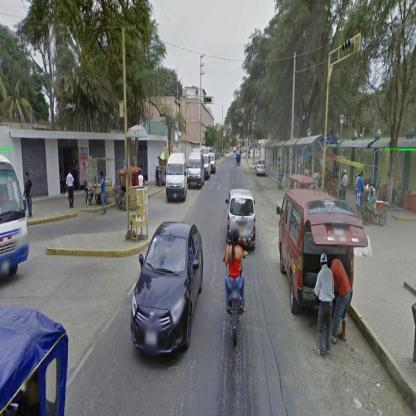Moto: (224, 229, 249, 348)
Pista: (78, 150, 301, 380)
Vehiculo: (277, 189, 355, 315), (132, 222, 204, 355), (226, 189, 257, 252), (166, 154, 188, 204), (188, 150, 206, 189), (257, 161, 267, 178), (237, 153, 242, 167)
